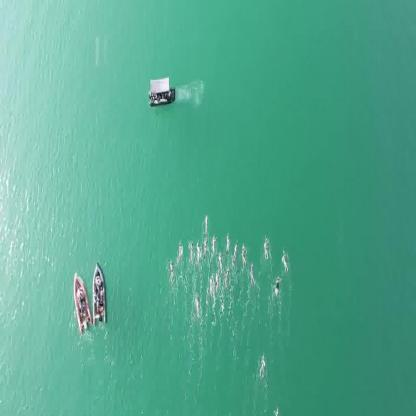Boat: (91, 264, 108, 326), (72, 271, 89, 332)
